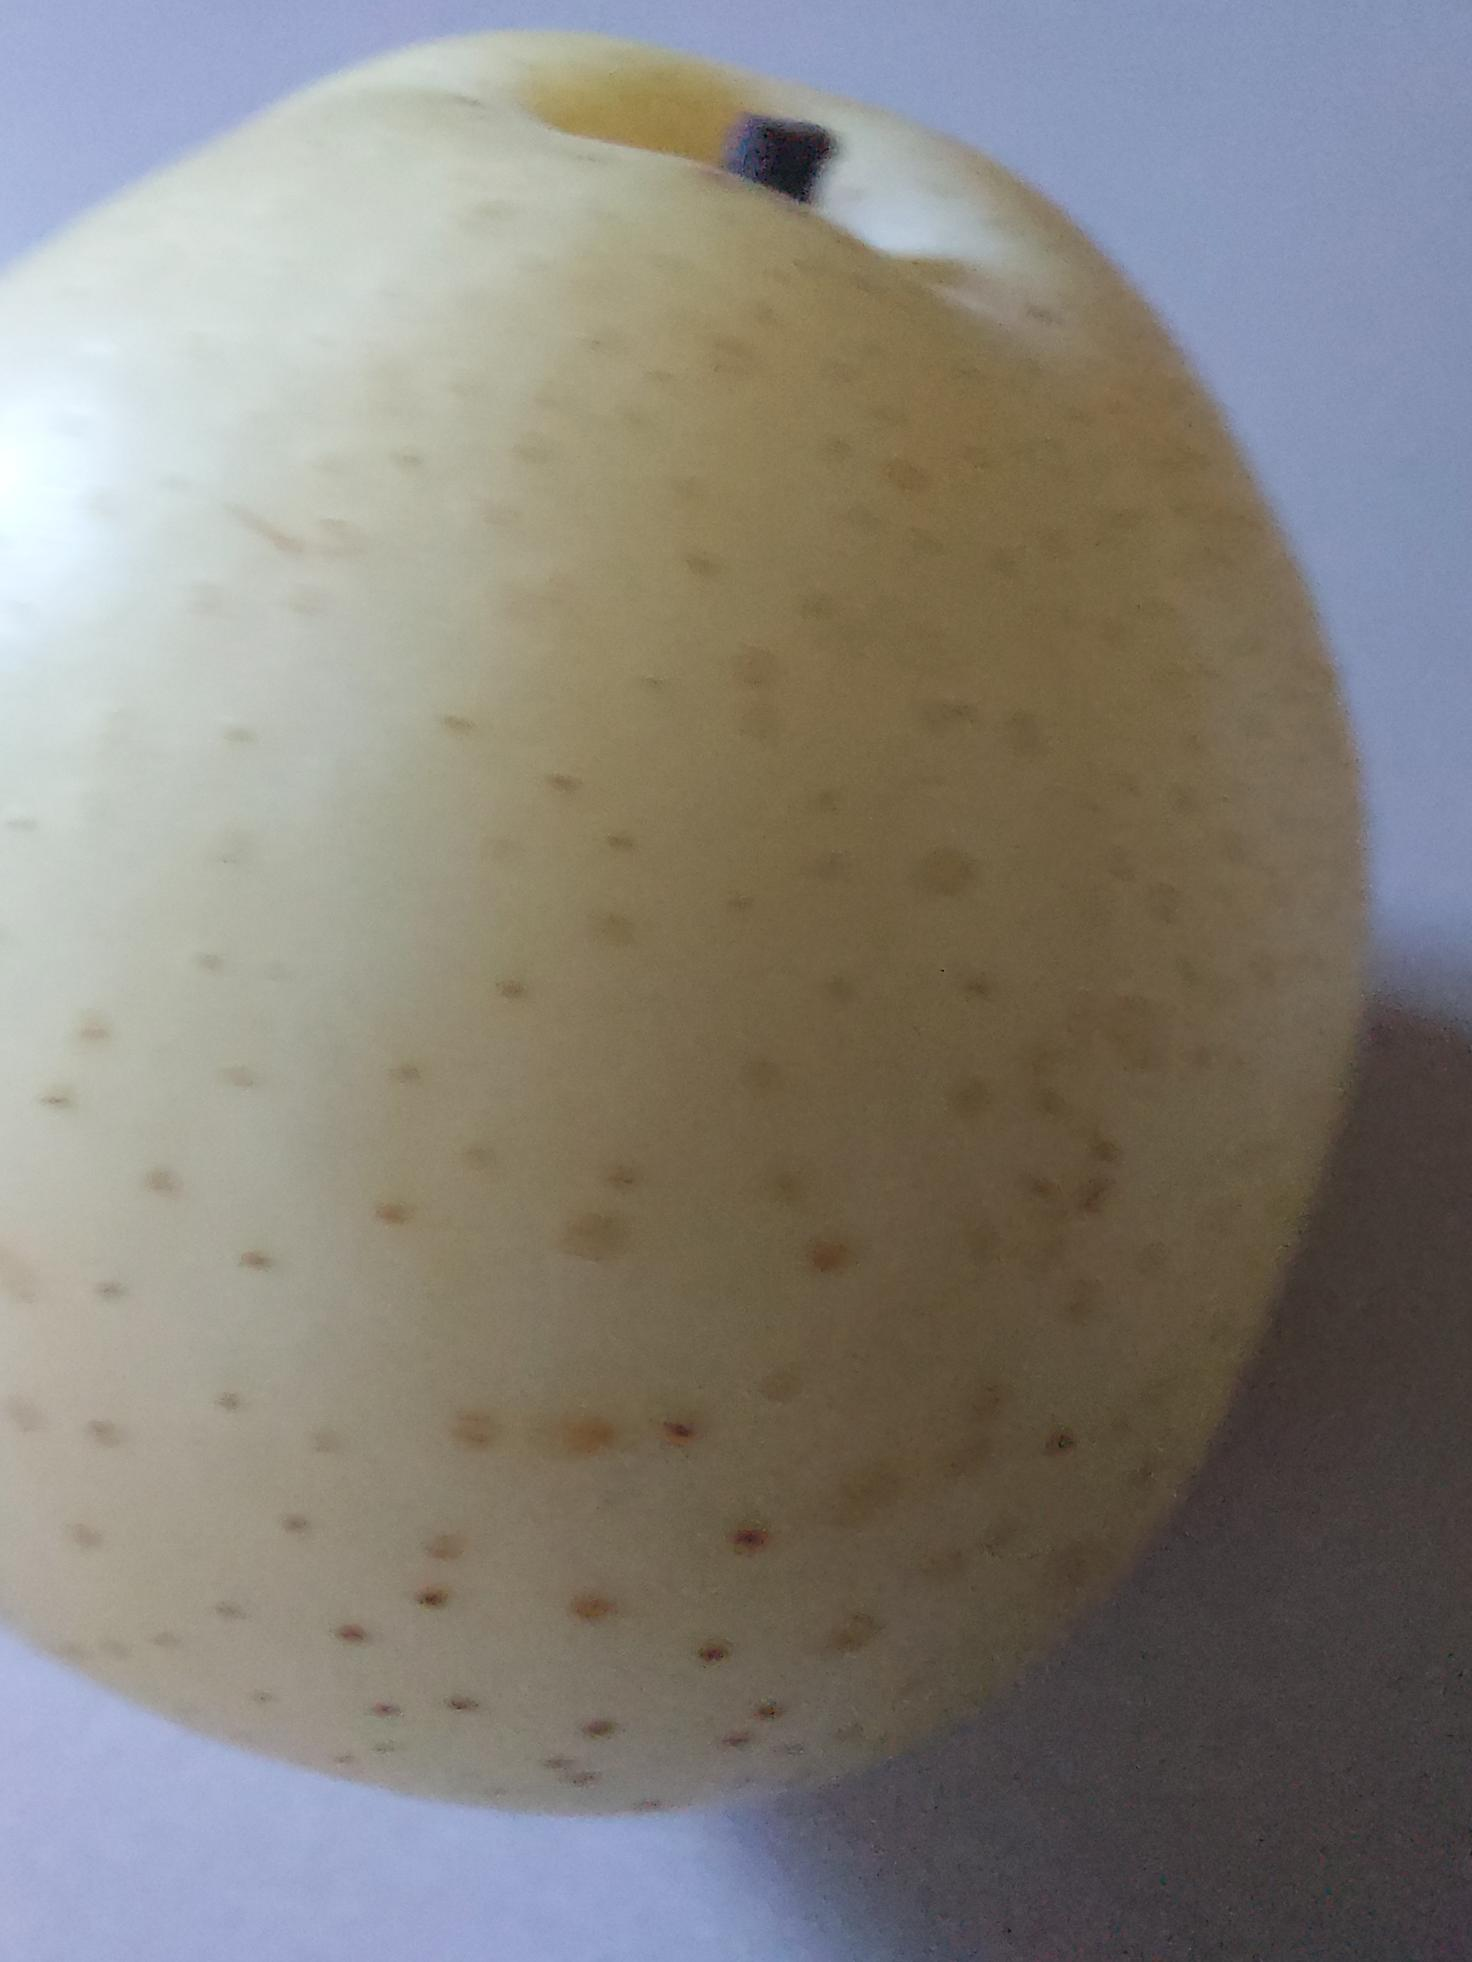Good Pear: (0, 0, 1433, 1923)
